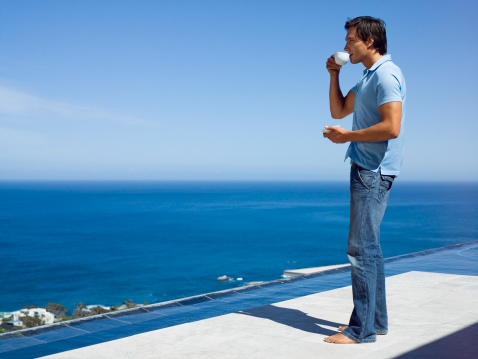em pe: (312, 16, 401, 344)
